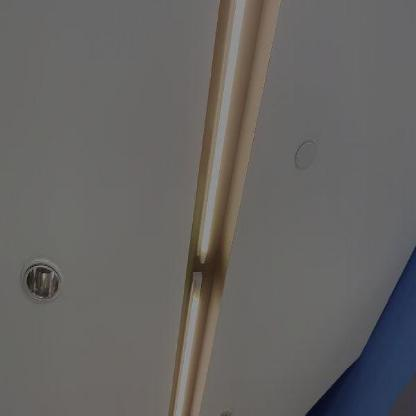light_on: (190, 0, 255, 273), (168, 272, 208, 415)
